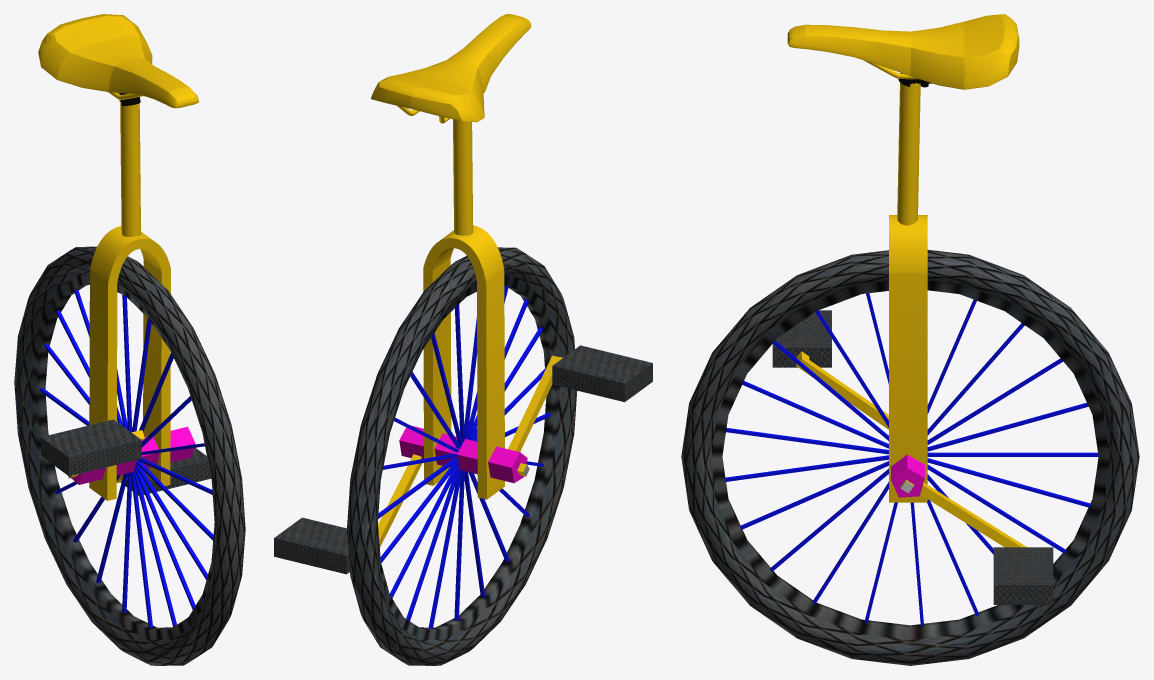
File: UnicycleFinal.FBX
3 renders of one model, left to right at view 1: azimuth 30°, elevation 25°; view 2: azimuth 150°, elevation 25°; view 3: azimuth 270°, elevation 25°, orthographic. The views are drawn at different scales.
Parts seen in each view (by area): view 1: Torus001_1, Sweep, Saddle, Cube_1, Pole, Cylinder, Cube, Cube_9, Cube_8, Cube_10, Cube_7, Cube_18 (+8 smaller); view 2: Torus001_1, Sweep, Saddle, Cube_1, Cube, Cylinder, Pole, Sweep_1, Sweep_2, Cube_6, Cube_5, Cube_7 (+5 smaller); view 3: Torus001_1, Saddle, Sweep, Cube, Pole, Cube_1, Sweep_2, Sweep_1, Cylinder, Cube_3, Cube_2, Cube_22 (+9 smaller).
Part boxes in pixels (bbox=[...]): Torus001_1: bbox=[14, 246, 245, 665]; Sweep: bbox=[89, 226, 170, 500]; Saddle: bbox=[38, 14, 198, 108]; Cube_1: bbox=[41, 419, 141, 476]; Pole: bbox=[120, 100, 140, 236]; Cylinder: bbox=[71, 426, 195, 484]; Cube: bbox=[120, 447, 211, 495]; Cube_9: bbox=[133, 471, 176, 626]; Cube_8: bbox=[130, 472, 152, 628]; Cube_10: bbox=[134, 467, 195, 609]; Cube_7: bbox=[122, 472, 131, 612]; Cube_18: bbox=[122, 294, 132, 432]; Torus001_1: bbox=[347, 247, 577, 665]; Sweep: bbox=[423, 225, 504, 499]; Saddle: bbox=[371, 14, 531, 122]; Cube_1: bbox=[552, 345, 652, 402]; Cube: bbox=[274, 517, 349, 574]; Cylinder: bbox=[399, 425, 527, 483]; Pole: bbox=[453, 119, 473, 235]; Sweep_1: bbox=[508, 355, 562, 476]; Sweep_2: bbox=[378, 454, 422, 547]; Cube_6: bbox=[428, 470, 462, 628]; Cube_5: bbox=[406, 468, 460, 620]; Cube_7: bbox=[454, 470, 464, 620]; Torus001_1: bbox=[681, 249, 1139, 665]; Saddle: bbox=[787, 14, 1019, 89]; Sweep: bbox=[889, 215, 927, 502]; Cube: bbox=[993, 547, 1053, 604]; Pole: bbox=[897, 82, 920, 225]; Cube_1: bbox=[772, 310, 831, 367]; Sweep_2: bbox=[900, 480, 1026, 547]; Sweep_1: bbox=[796, 351, 888, 429]; Cylinder: bbox=[891, 454, 924, 497]; Cube_3: bbox=[927, 458, 1090, 507]; Cube_2: bbox=[927, 452, 1098, 456]; Cube_22: bbox=[927, 402, 1088, 451].
Size of the model in its own units: 34.8 by 80.74 by 52.76.
8 materials, 1 textured.
